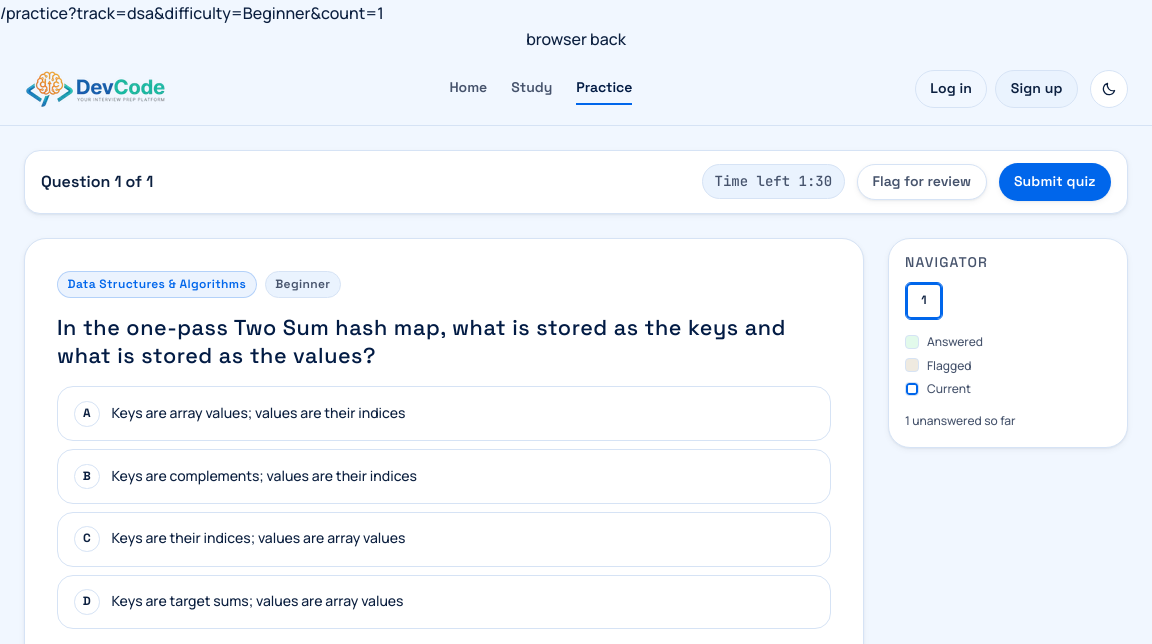
Scenario: AI coach → Study hub → back to Results › keeps every topic recommendation after returning
Expected: the text "Question 1 of 1" is shown, [41,168,153,195]
What coordinates should you click on to do the following:
click the button "B Keys are complements; values are their indices"
I would click on:
 (264, 475)
Its box is [57,449,831,504].
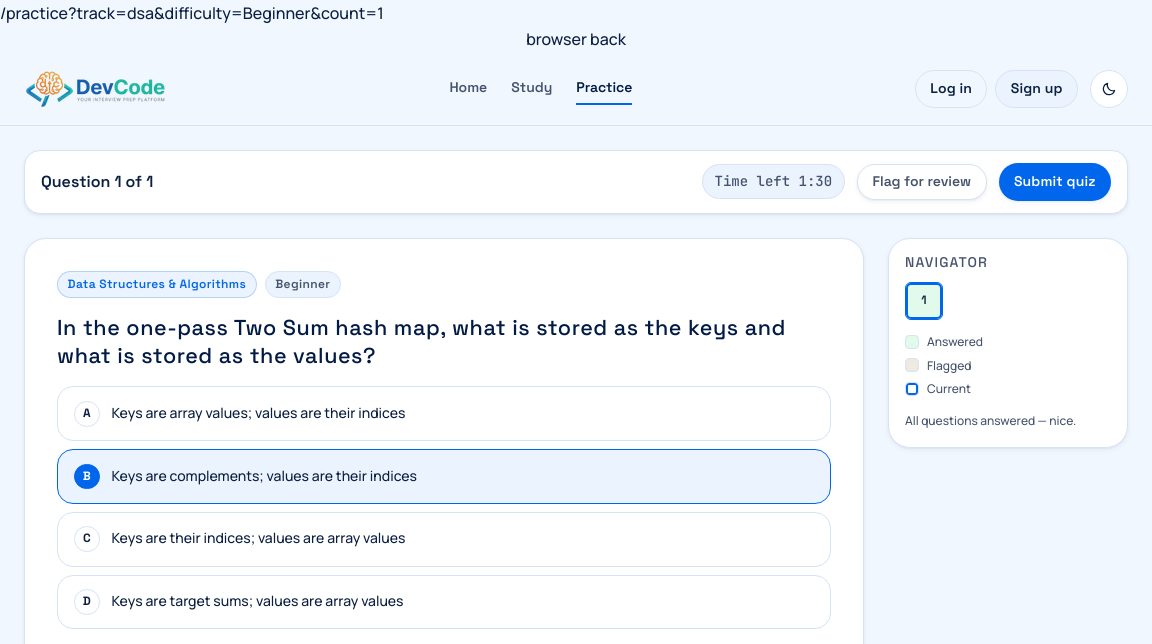
What coordinates should you click on to do the following:
click the button "Submit quiz"
I would click on:
 (1055, 182)
Its box is [998,163,1111,201].
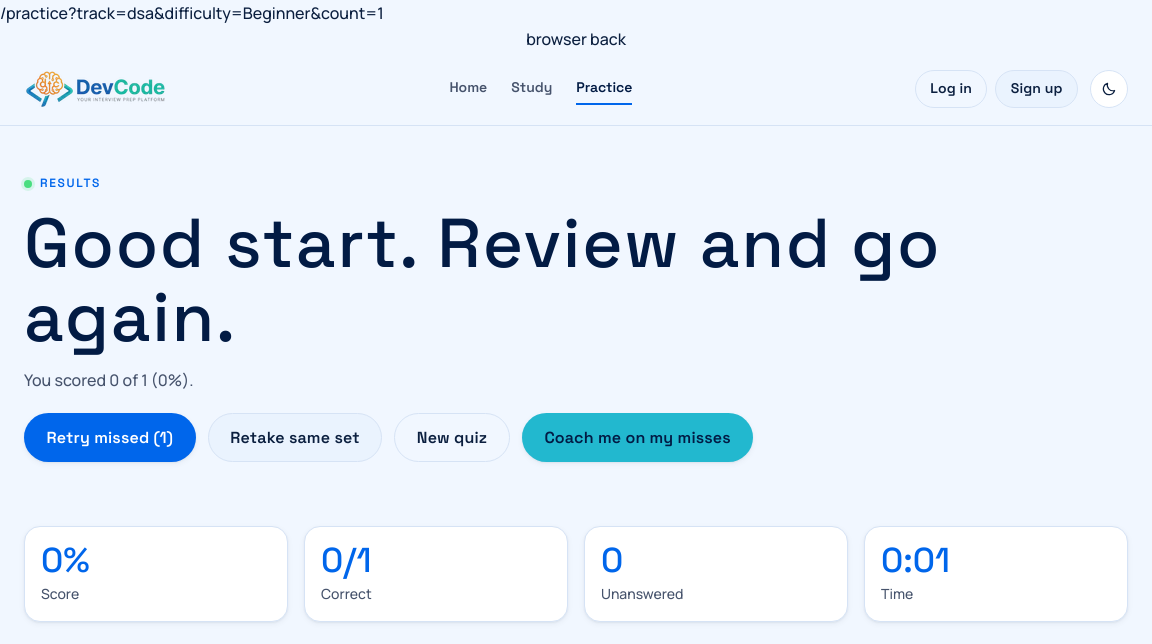
Now the button "Coach me on my misses" is shown
What coordinates should you click on to do the following:
click the button "Coach me on my misses"
I would click on:
 (638, 438)
Its box is [522,413,754,462].
(page scrolled)
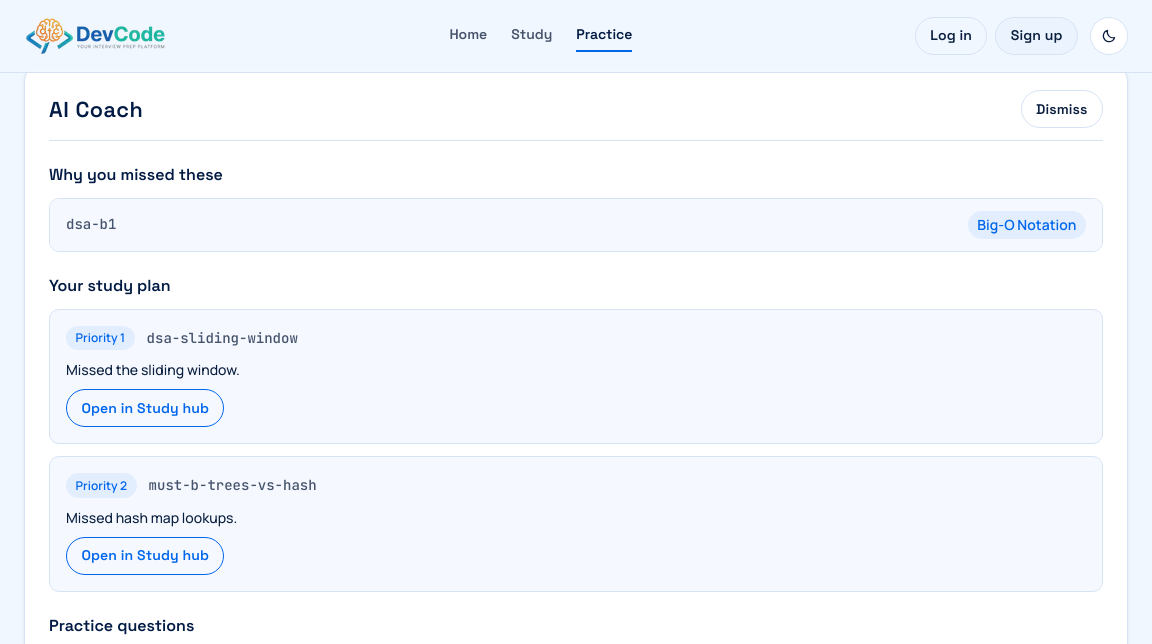
Now the heading "Why you missed these" is shown, box [49,164,223,185]
What coordinates should you click on to do the following:
click the link "Open in Study hub" below "dsa-sliding-window"
I would click on:
 (145, 408)
Its box is [66,389,224,427].
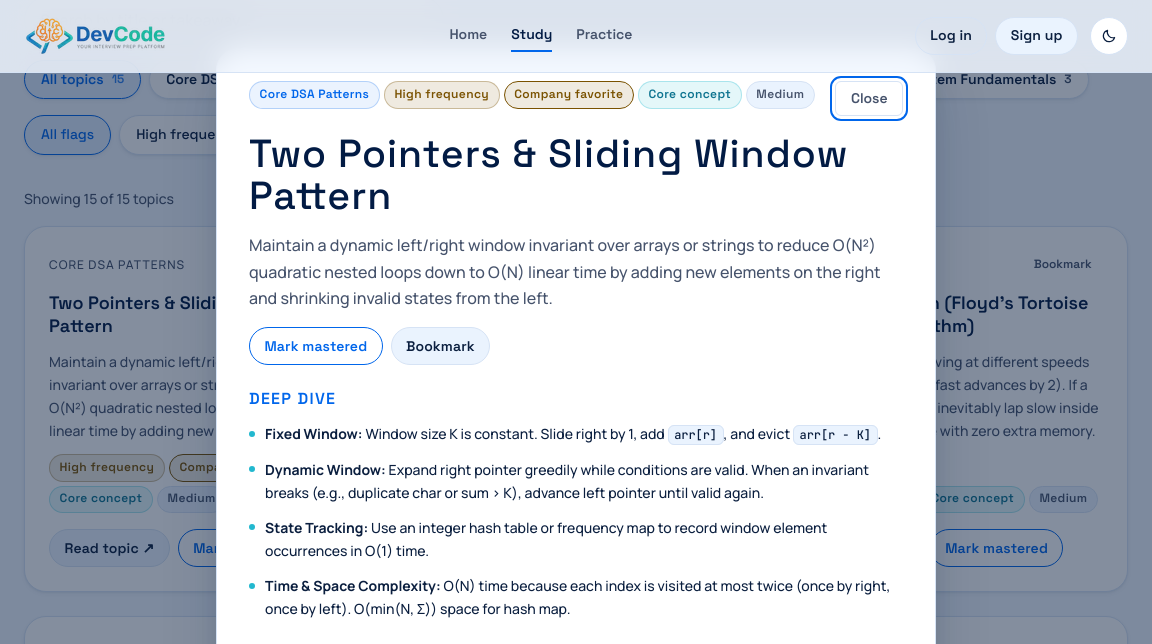
What coordinates should you click on to do the following:
click the button with aria-label "Close topic"
I would click on:
 (869, 98)
Its box is [836,81,903,116].
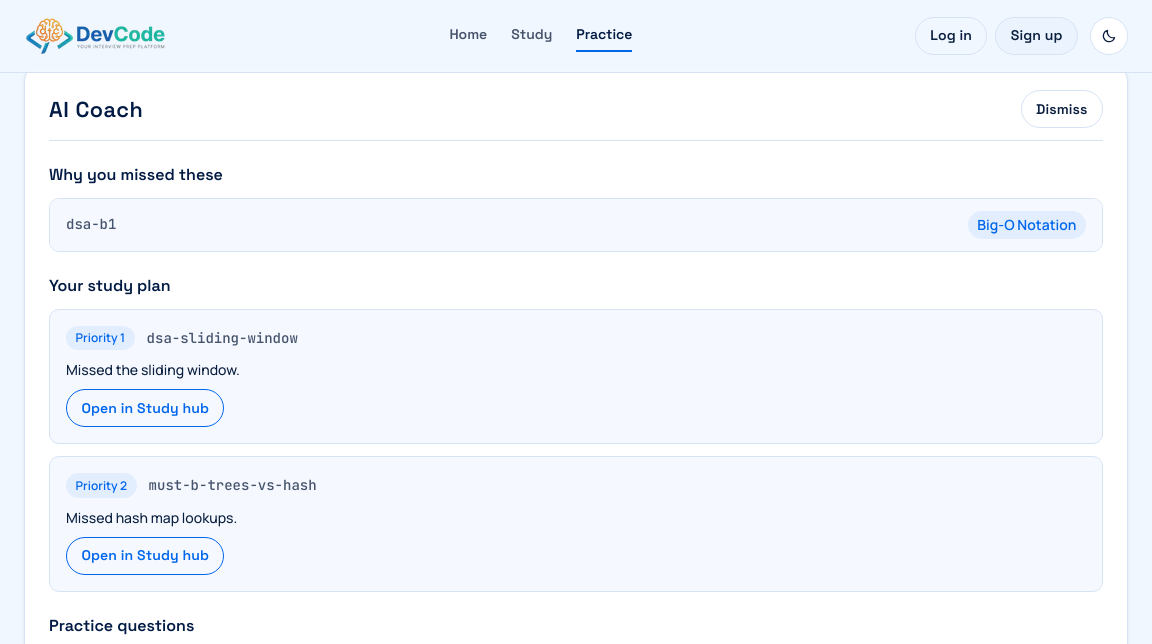
Now the text "dsa-sliding-window" is shown, box [147,326,298,350]
Now the heading "Why you missed these" is shown, box [49,164,223,185]
Now the text "must-b-trees-vs-hash" is shown, box [149,474,317,497]
